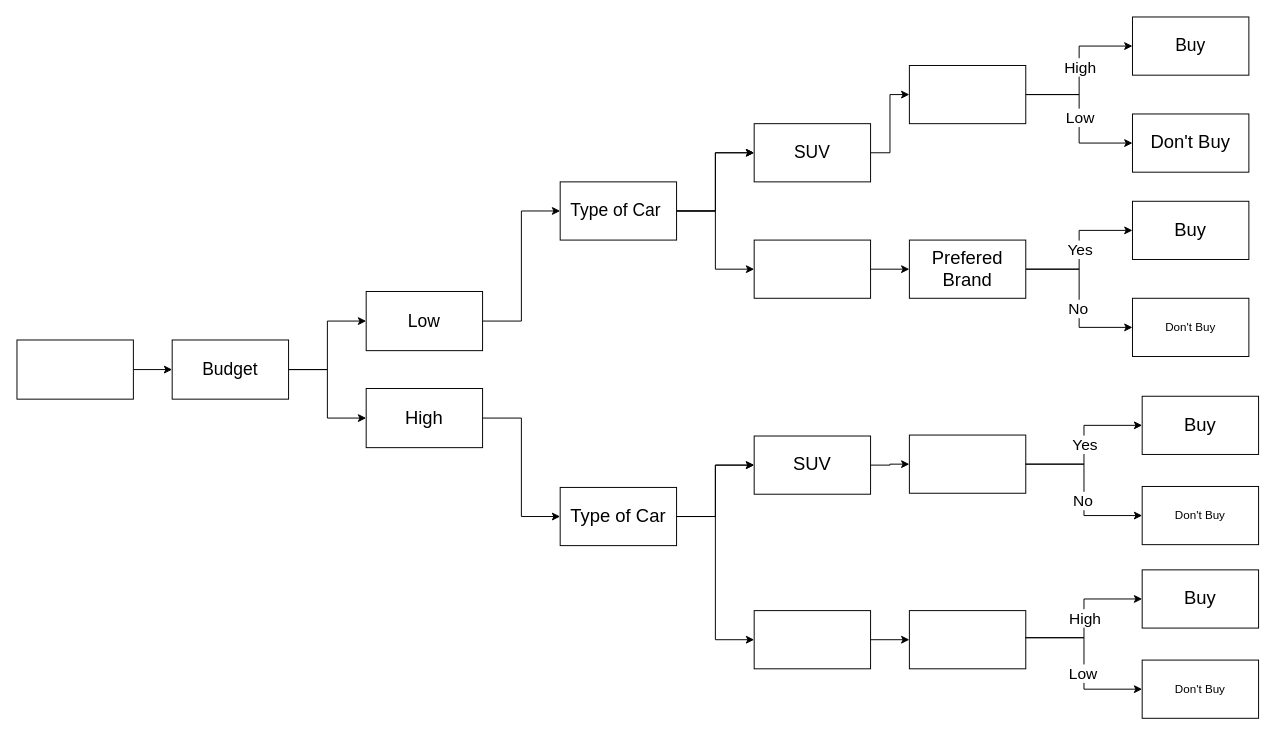
Image size: 1276x735. Some labels were removed from this diagram. The shapes that lost their labels are listed below. From the top down, each one's box as (x1, y1, x2, y2) in pixels, then its label:
(908, 65, 1026, 124): Fuel Efficiency?
(753, 239, 871, 298): Sedan
(16, 339, 133, 399): Buy a Car
(908, 434, 1026, 493): Great Features?
(753, 610, 871, 669): Truck
(908, 610, 1026, 669): Towing Capacity
